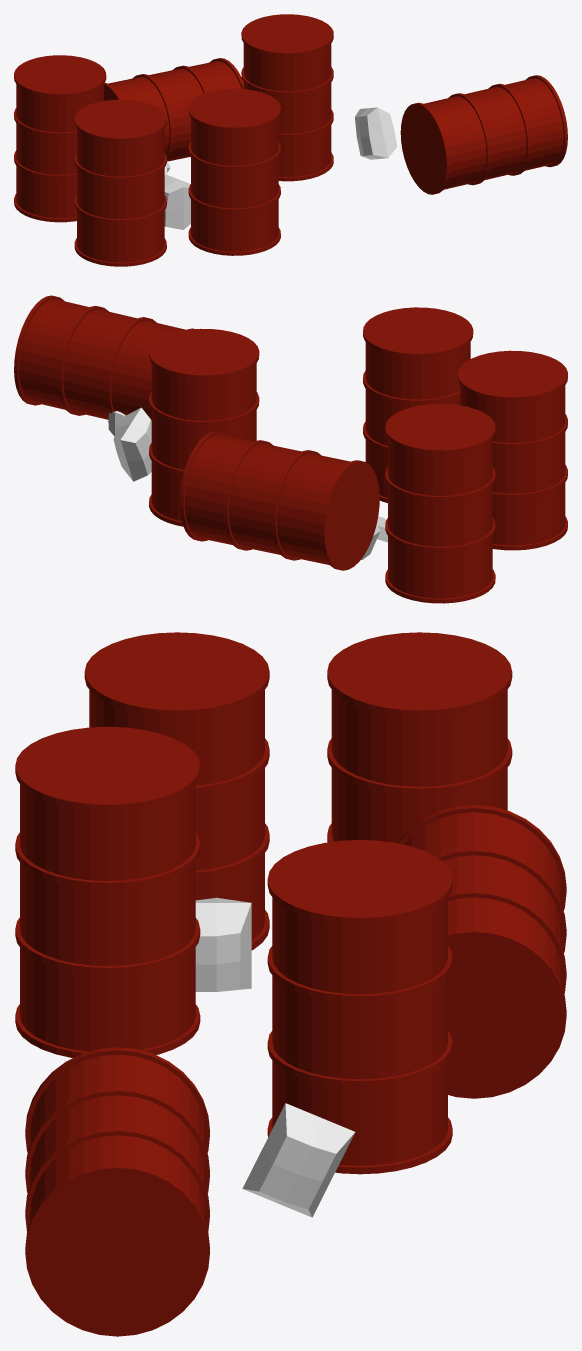
The model's file is trush-2.glb.
3 views of the same model, one above another, from view 1: azimuth 30°, elevation 25°; view 2: azimuth 150°, elevation 25°; view 3: azimuth 270°, elevation 25° (orthographic). The views are drawn at different scales.
Parts seen in each view (by area): view 1: 円柱.002, 円柱.003, 円柱.006, 円柱.001, 円柱.005, 円柱.004, 立方体.019, 立方体.038; view 2: 円柱.004, 円柱.005, 円柱.006, 円柱.002, 円柱.001, 円柱.003, 立方体.019; view 3: 円柱.003, 円柱.001, 円柱.002, 円柱.005, 円柱.004, 円柱.006, 立方体.019, 立方体.038.
Boxes of the visible parts, x1,y1,x2,y2 form: 円柱.002: (400,75,567,194); 円柱.003: (188,88,280,255); 円柱.006: (74,99,166,266); 円柱.001: (241,14,333,181); 円柱.005: (14,55,106,222); 円柱.004: (104,58,243,161); 立方体.019: (355,107,397,159); 立方体.038: (164,174,190,229); 円柱.004: (179,431,379,570); 円柱.005: (385,404,495,603); 円柱.006: (457,350,567,550); 円柱.002: (14,295,195,420); 円柱.001: (149,328,259,526); 円柱.003: (363,307,473,502); 立方体.019: (113,407,151,481); 円柱.003: (15,726,200,1057); 円柱.001: (267,840,452,1174); 円柱.002: (25,1047,209,1336); 円柱.005: (327,632,512,842); 円柱.004: (397,805,566,1098); 円柱.006: (84,632,269,950); 立方体.019: (242,1103,355,1217); 立方体.038: (195,897,251,991).
Bounding box in the file's own units: 6.61 × 1.89 × 3.51.
